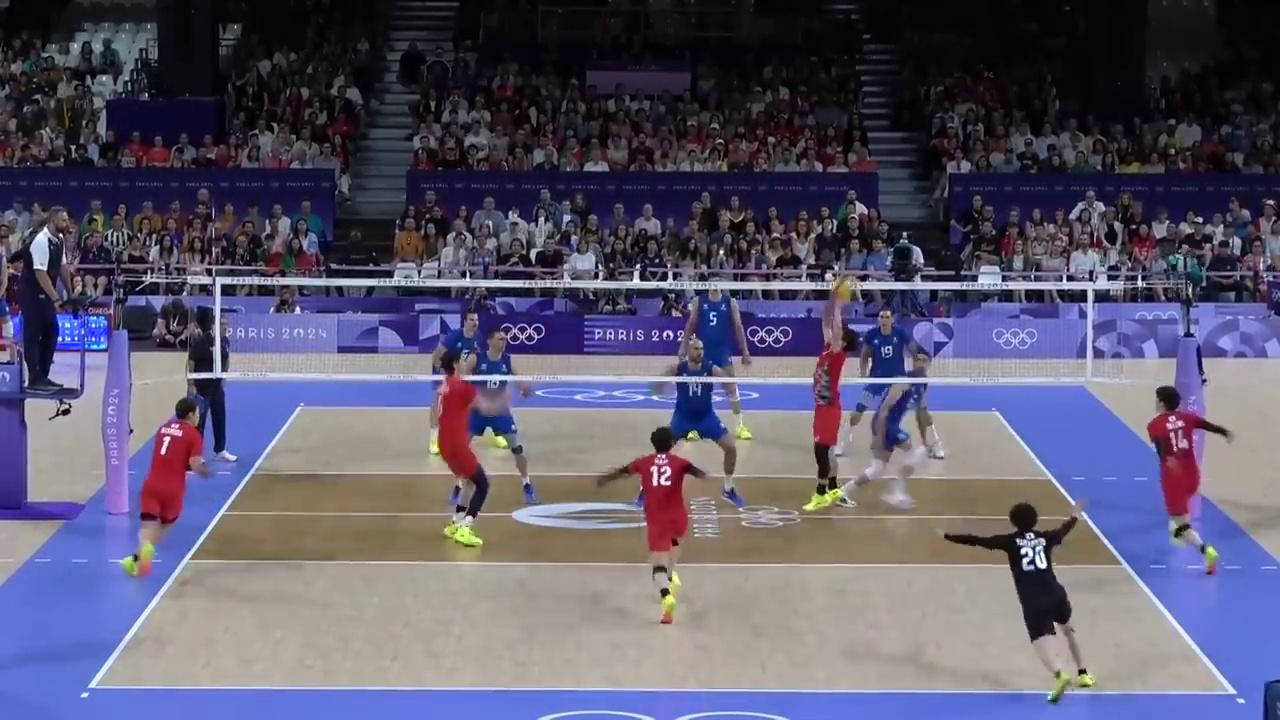ball: (833, 279, 851, 303)
